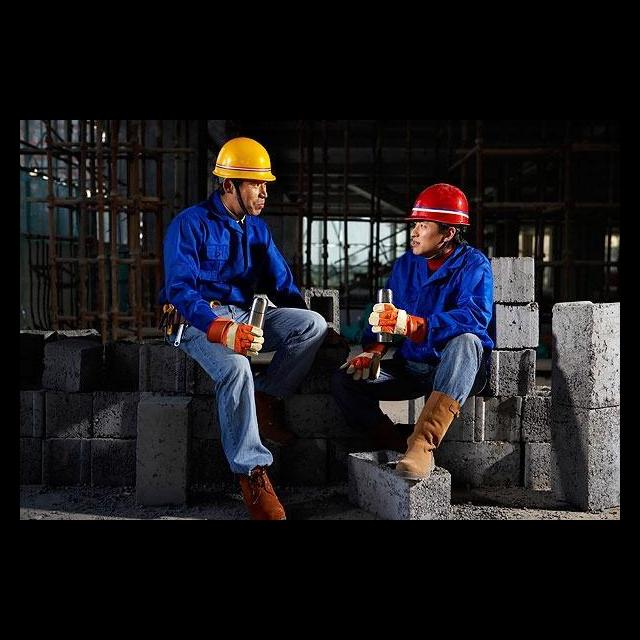Gloves: (207, 316, 266, 357), (369, 304, 424, 340), (340, 344, 388, 382)
Hardhat: (214, 136, 280, 179), (407, 184, 469, 225)
NO-Mask: (411, 236, 439, 253), (238, 199, 265, 213)
NO-Safety Vest: (186, 206, 273, 305), (396, 249, 475, 352)
Person: (160, 136, 330, 520), (338, 183, 494, 482)
